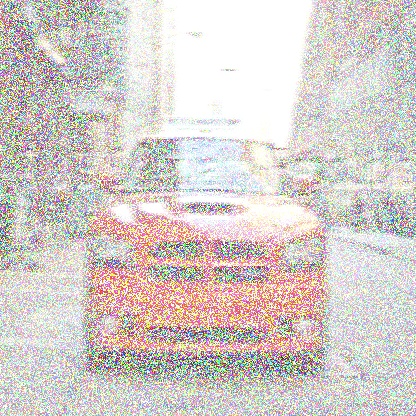Vehicle: (84, 131, 332, 370)
